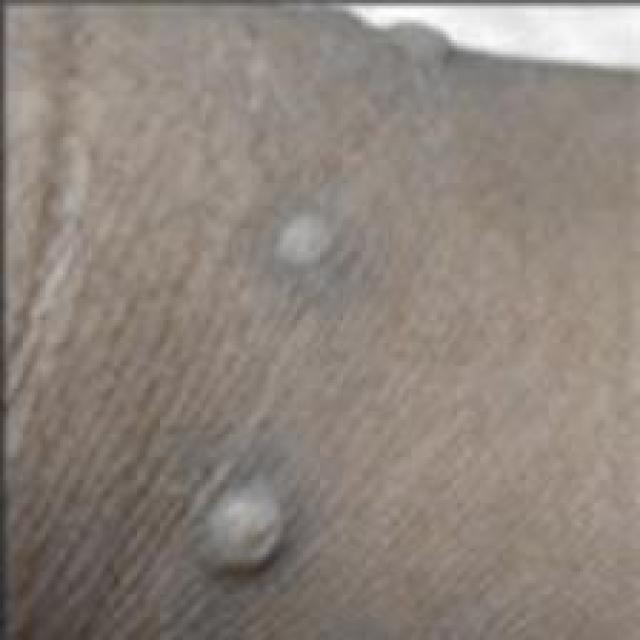monkeypox: (108, 0, 554, 617)
